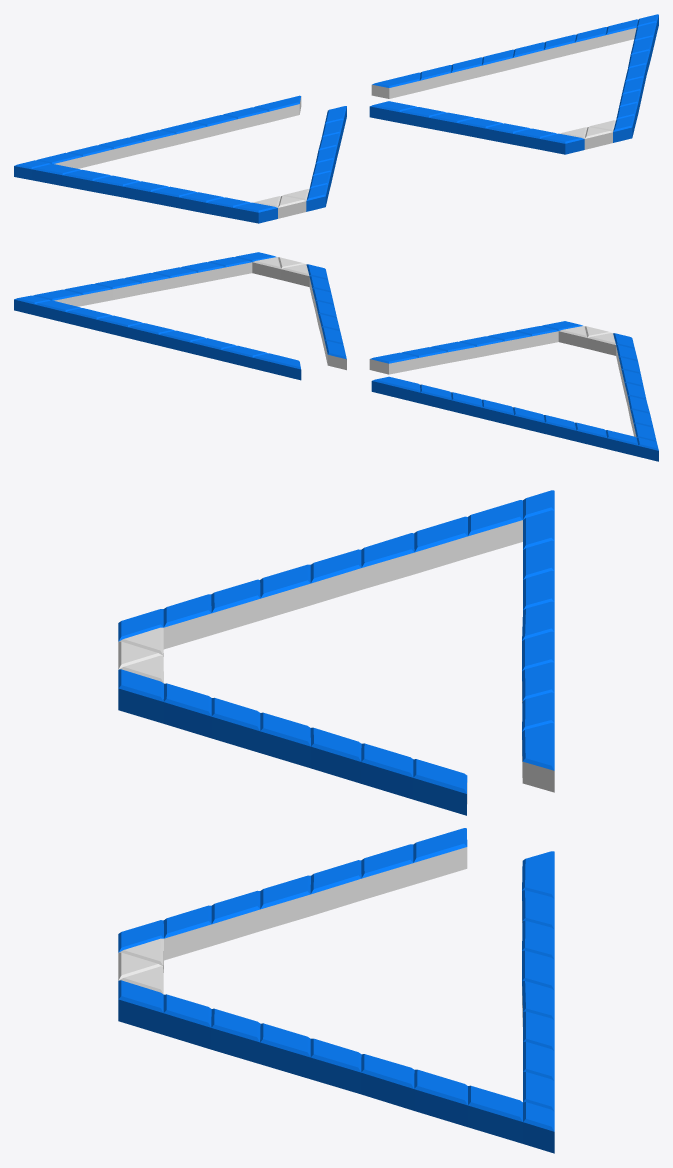
The model's file is wall_divide.fbx.
The picture shows the model from 3 angles, top to bottom: view 1: azimuth 30°, elevation 25°; view 2: azimuth 150°, elevation 25°; view 3: azimuth 270°, elevation 25°; orthographic projection. The views are drawn at different scales.
Parts seen in each view (by area): view 1: T8, L1_2, R7, T8_2, L8_2, T4_2, L7_2, T5_2, T7_2, T5, R1, T4 (+27 smaller); view 2: T8_2, T8, R1_2, T5, T5_2, L7, T7, T3, T6, T2, T1, T7_2 (+25 smaller); view 3: L8_2, L8, L7, L7_2, R1, R1_2, L6, L6_2, R2_2, R2, L5, L5_2 (+33 smaller).
Boxes of the visible parts, bbox=[...] form: T8: bbox=[371, 72, 420, 98]; L1_2: bbox=[233, 202, 277, 223]; R7: bbox=[540, 133, 584, 154]; T8_2: bbox=[254, 95, 301, 122]; L8_2: bbox=[31, 164, 80, 185]; T4_2: bbox=[129, 130, 176, 152]; L7_2: bbox=[62, 169, 110, 191]; T5_2: bbox=[160, 122, 207, 144]; T7_2: bbox=[223, 107, 269, 129]; T5: bbox=[481, 49, 513, 76]; R1: bbox=[369, 101, 417, 122]; T4: bbox=[512, 42, 544, 68]; T8_2: bbox=[371, 376, 420, 403]; T8: bbox=[252, 353, 301, 380]; R1_2: bbox=[369, 352, 418, 374]; T5: bbox=[158, 330, 205, 353]; T5_2: bbox=[482, 399, 514, 426]; L7: bbox=[64, 284, 112, 305]; T7: bbox=[221, 345, 267, 368]; T3: bbox=[96, 315, 143, 337]; T6: bbox=[190, 338, 236, 360]; T2: bbox=[65, 308, 112, 330]; T1: bbox=[34, 300, 81, 322]; T7_2: bbox=[420, 384, 451, 410]; L8_2: bbox=[468, 500, 522, 557]; L8: bbox=[468, 1085, 522, 1143]; L7: bbox=[414, 1069, 467, 1127]; L7_2: bbox=[414, 516, 467, 573]; R1: bbox=[413, 828, 467, 884]; R1_2: bbox=[413, 759, 467, 815]; L6: bbox=[361, 1054, 414, 1110]; L6_2: bbox=[361, 533, 414, 589]; R2_2: bbox=[361, 743, 413, 799]; R2: bbox=[361, 844, 413, 900]; L5: bbox=[310, 1038, 361, 1094]; L5_2: bbox=[310, 549, 361, 605].
Size of the model in its own units: 1485 by 40 by 435.
